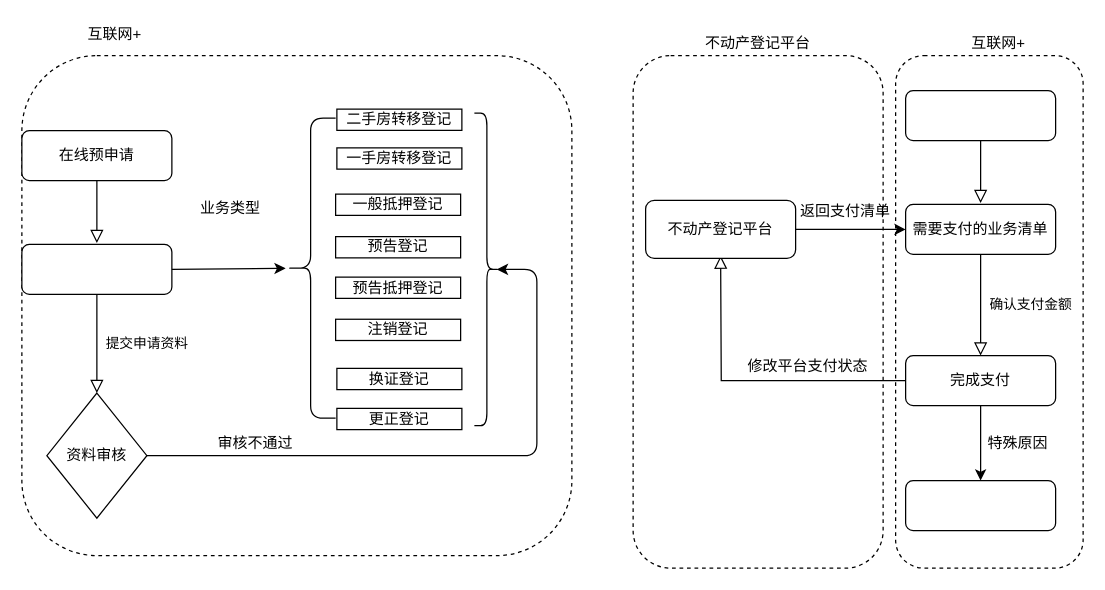
Image size: 1105x590. Some labels were removed from this diagram. The shapes that lost their labels are listed below. From the top down, each one's box as (x1, y1, x2, y2) in pixels, then its label:
(904, 89, 1056, 141): 支付入口
(21, 243, 172, 294): 预申请业务
(904, 479, 1056, 531): 退款
